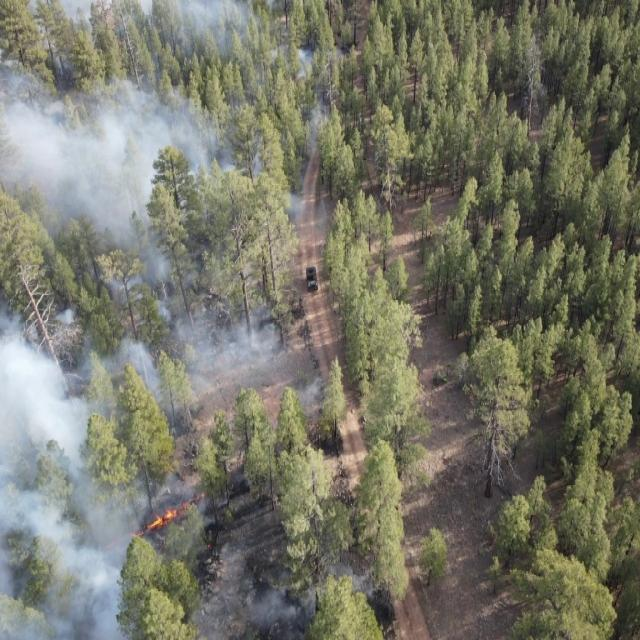fire: (110, 488, 214, 552)
smoke: (0, 2, 337, 239), (0, 234, 302, 447), (0, 446, 225, 640), (238, 558, 377, 634)
